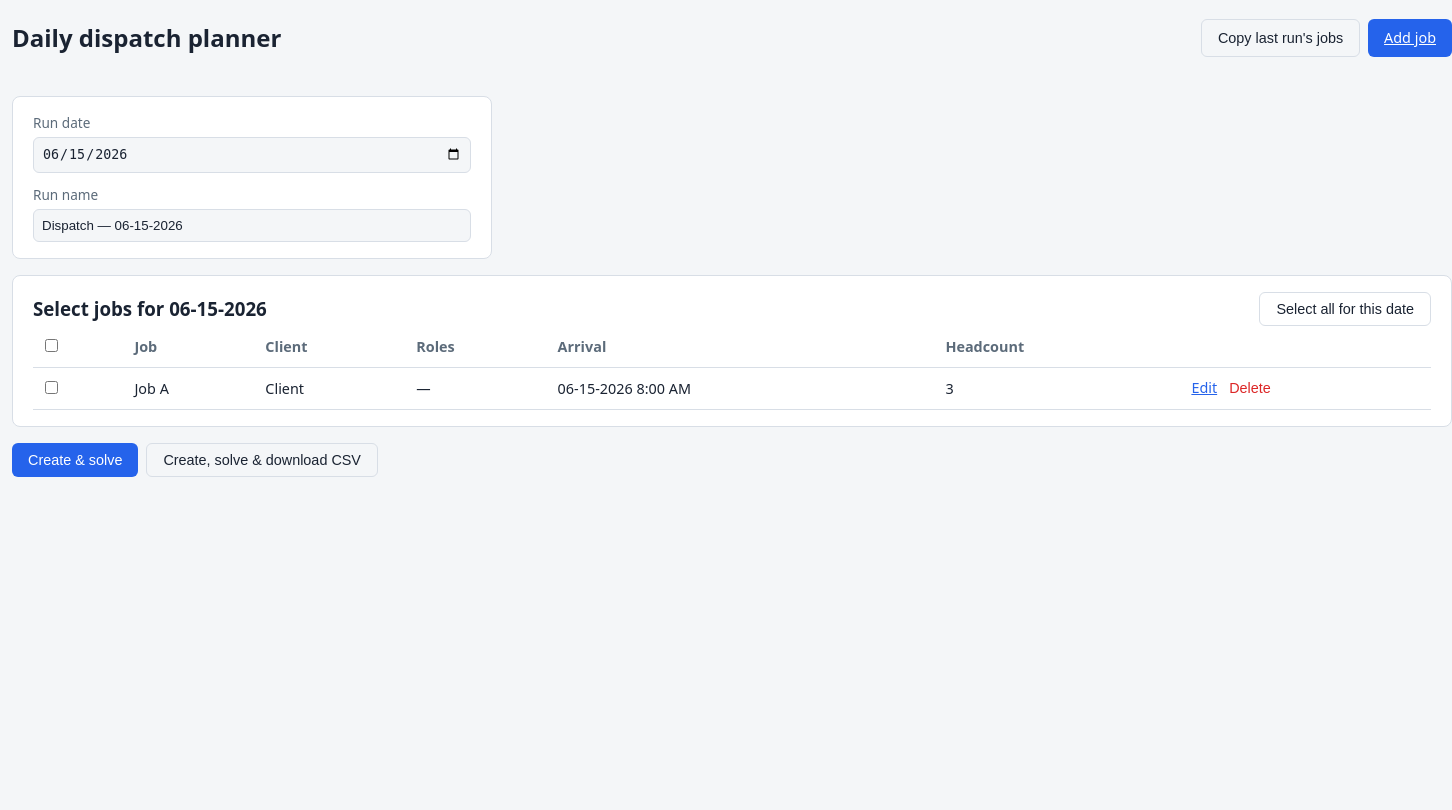
DispatchPlannerPage › copies jobs from previous run
This screenshot has width=1452, height=810.
Check: the text "Job A" is shown, box [126, 367, 257, 410]
Click the button "Copy last run's jobs" at (1281, 38), box [1201, 19, 1360, 57]
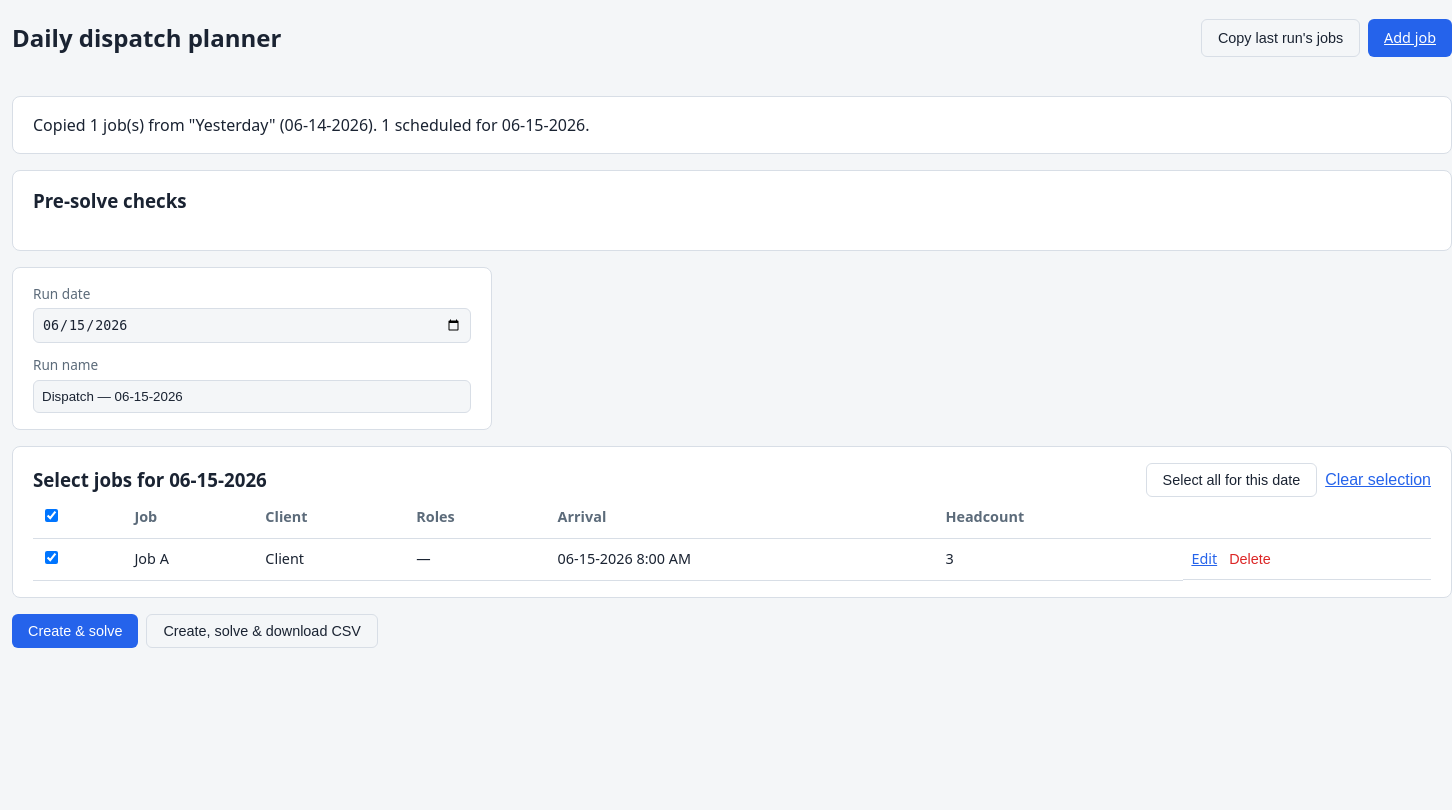
Check: the 2nd checkbox is checked, box [45, 551, 58, 564]
Check: the text "Copied 1 job" is shown, box [33, 114, 590, 136]
